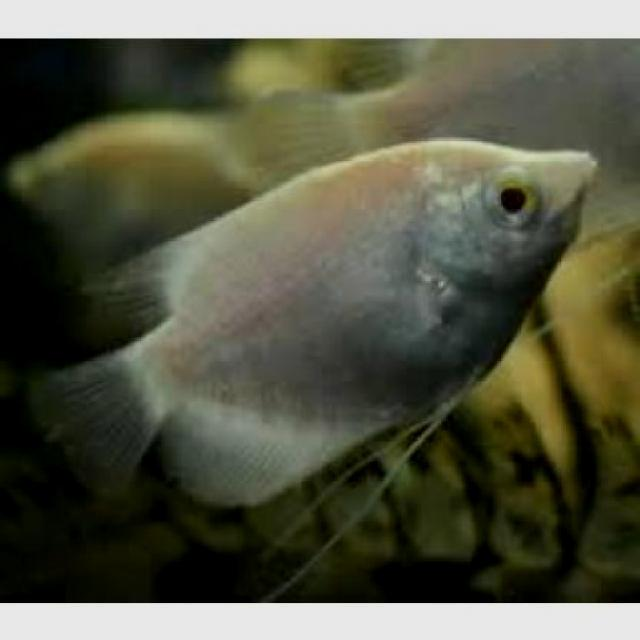gurame: (66, 136, 599, 495)
